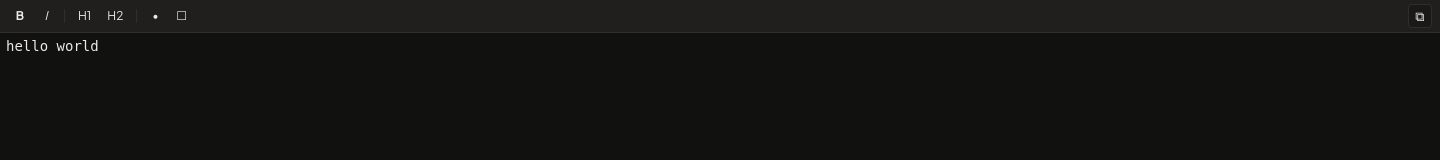
Test case: NotesToolbar › Bold wraps the current selection in **
Click the button named "Bold". click: (20, 16)
box: [8,4,32,28]
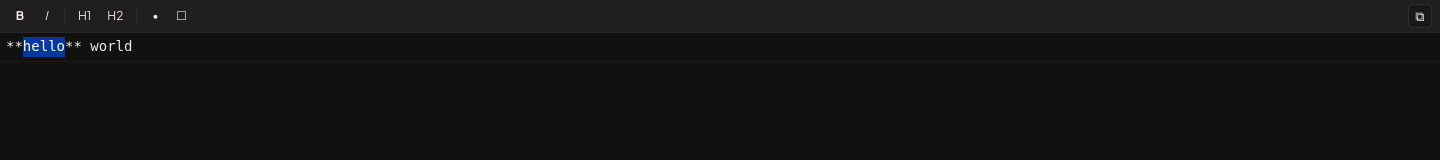
Expected: the text box labelled "**hello** world" is shown, [6,38,132,54]
